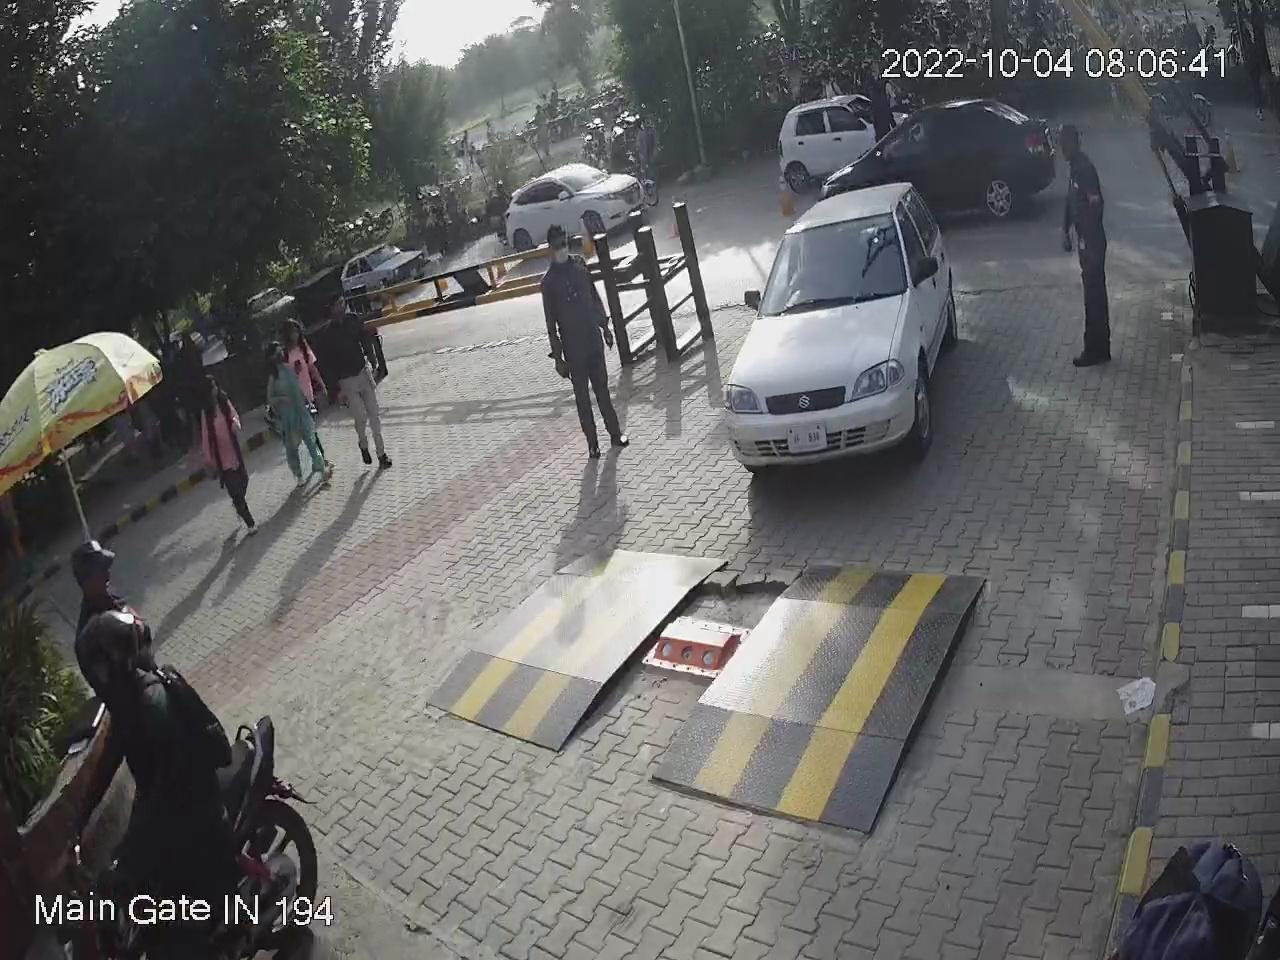windshield: (758, 205, 910, 320)
